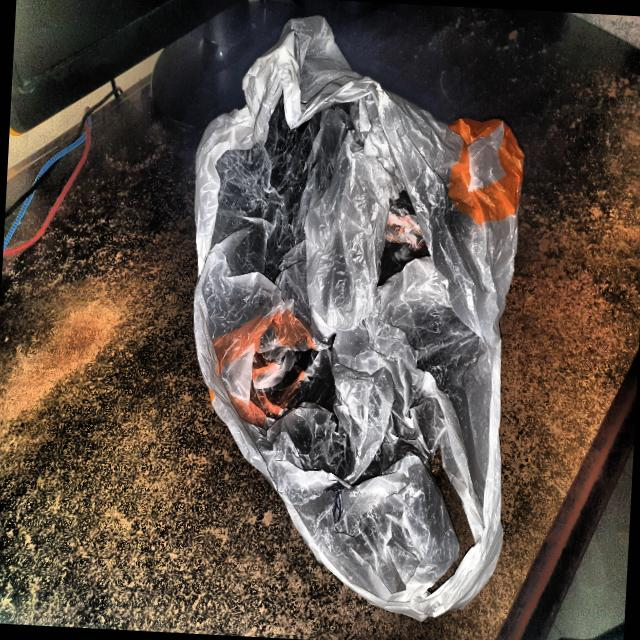plastic bag: (156, 0, 545, 636)
